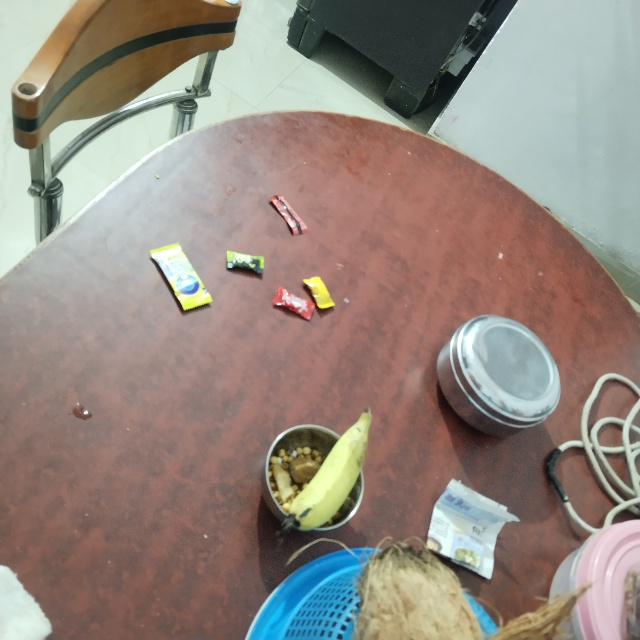Alpenlibe Creamfills: (299, 280, 327, 324)
Mazelo: (279, 280, 325, 306)
Nescafe Coffee: (270, 200, 287, 250)
Orbit: (149, 250, 190, 329)
Pulse: (224, 244, 267, 279)
